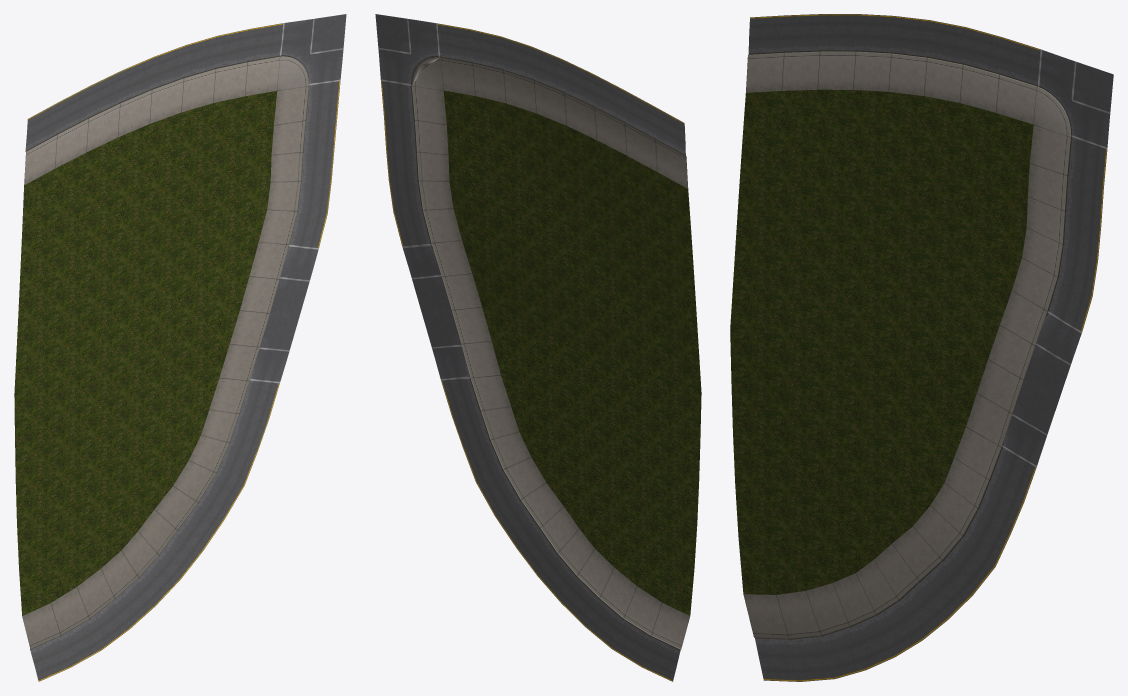
The model's file is lot21.obj.
3 views of the same model, side by side, from view 1: azimuth 30°, elevation 25°; view 2: azimuth 150°, elevation 25°; view 3: azimuth 330°, elevation 25° (orthographic). The views are drawn at different scales.
Parts seen in each view (by area): view 1: lot21; view 2: lot21; view 3: lot21.
Part boxes in pixels (<box>): lot21: <box>14,14,346,681</box>; lot21: <box>375,14,701,681</box>; lot21: <box>730,14,1113,681</box>.
Size of the model in its own units: 52.05 by 91.15 by 1.34.
